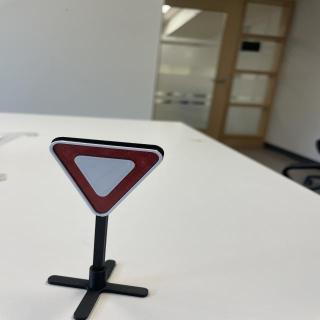sign_yield: (46, 136, 167, 219)
